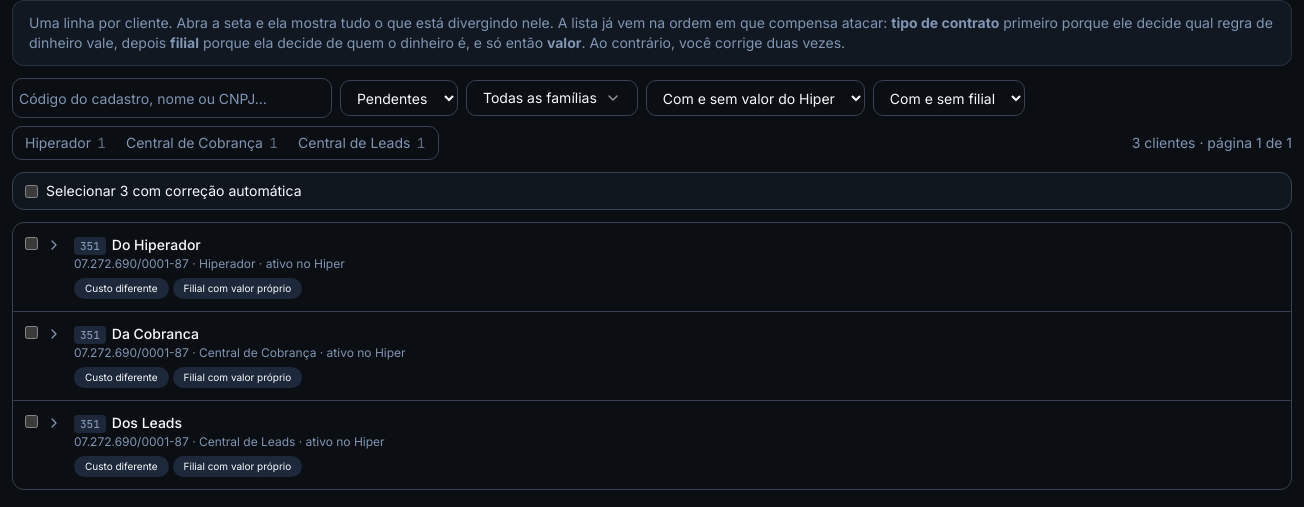
it: abas da integração Hiper › filtra por tipo de contrato, somando os marcados
Step 1. Click the button "Central de Cobrança1" → (202, 143), box [116,129,288,157]
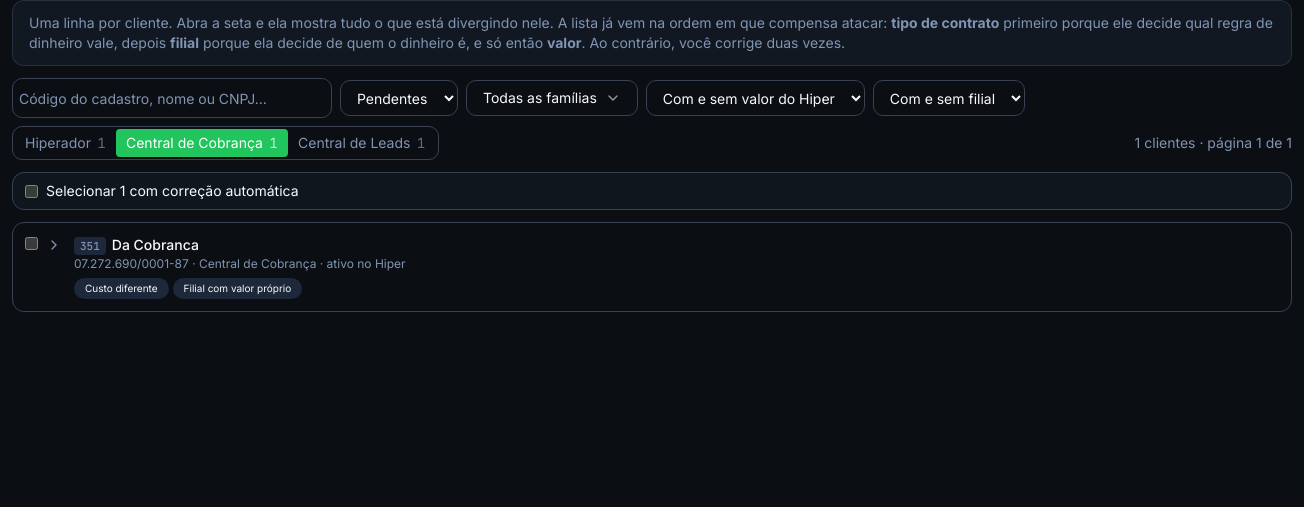
Expected: the text "Da Cobranca" is shown, [112,236,199,253]
Now the text "Do Hiperador" is gone
Step 2. Click the button "Central de Leads1" → (362, 143), box [288,129,436,157]
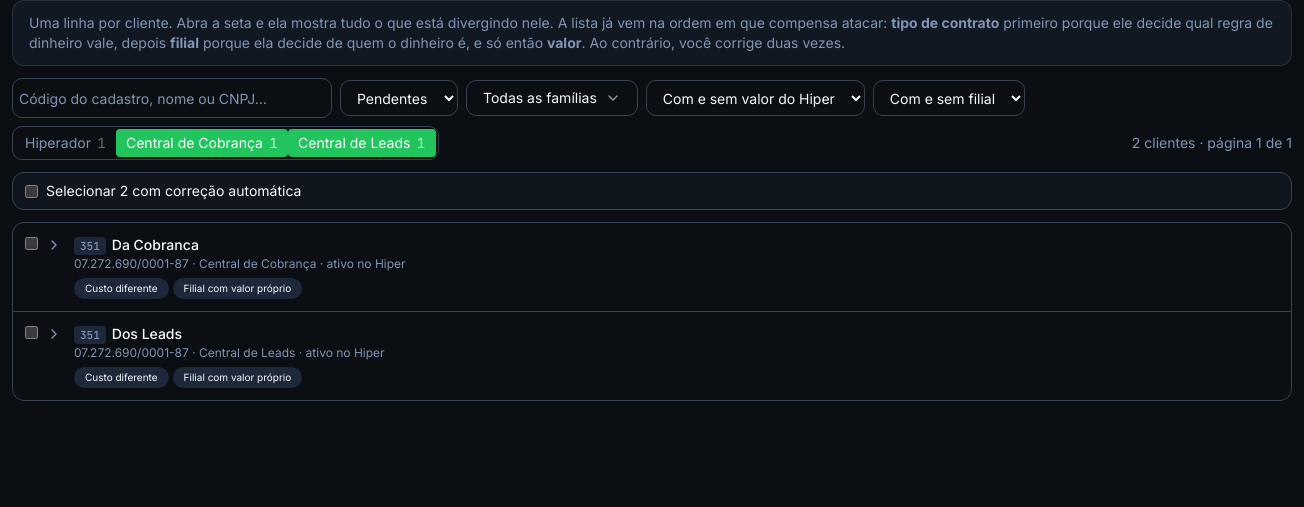
Expected: the text "Da Cobranca" is shown, [112,236,199,253]
Now the text "Dos Leads" is shown, box [112,325,182,342]
